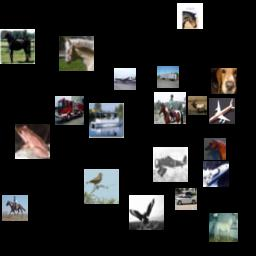airplane: (153, 147, 188, 182), (209, 98, 235, 124), (114, 68, 136, 90)
automobile: (175, 188, 197, 210)
bird: (84, 169, 119, 204), (129, 195, 164, 230)
deer: (188, 96, 207, 115)
dog: (211, 68, 237, 94)
frog: (15, 124, 50, 159)
ship: (89, 103, 124, 138), (203, 161, 229, 187)
truck: (55, 96, 84, 125), (157, 66, 179, 88)
